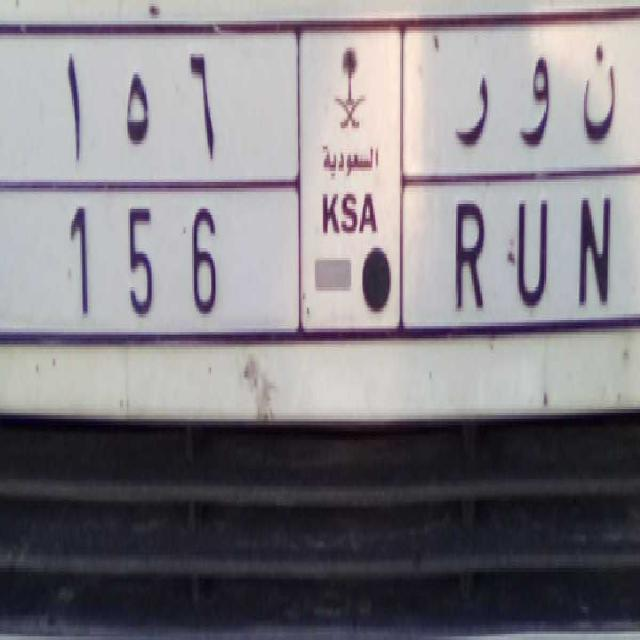license_plate: (38, 175, 633, 371)
